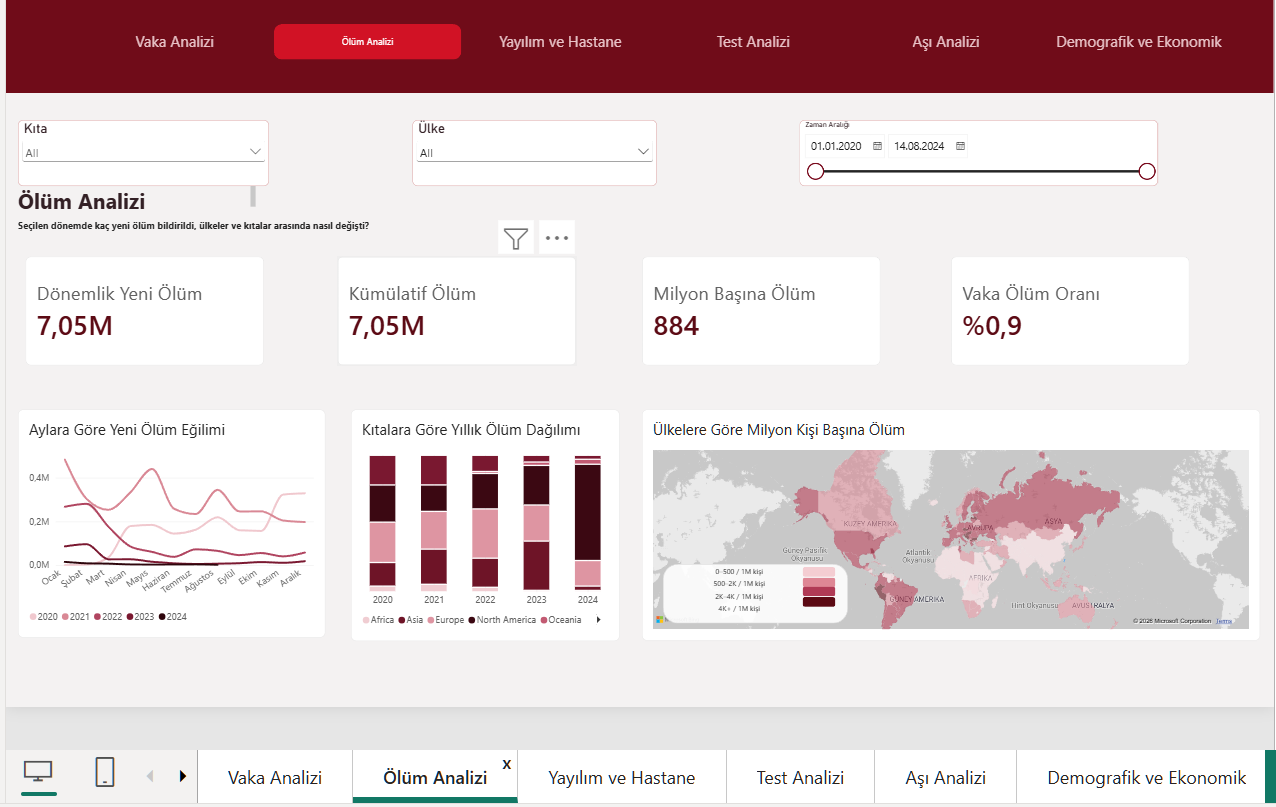

The page's visual inventory and layout, read from the dashboard file:
{"tool":"powerbi","page":{"name":"Ölüm Analizi","canvas":[1920,1080],"ordinal":1},"visuals":[{"type":"shape","box":[0,0,1919.3,149.9],"z":0},{"type":"pageNavigator","box":[113.6,45.4,1744.4,54.5],"z":1000}]}

Visuals, with their boxes on the page's 1920x1080 design canvas (x1, y1, x2, y2). These are canvas units, not pixel positions in the 1276x807 screenshot, which may show the page scaled, cropped or inside an application window:
shape: box(0, 0, 1919, 150)
pageNavigator: box(114, 45, 1858, 100)
